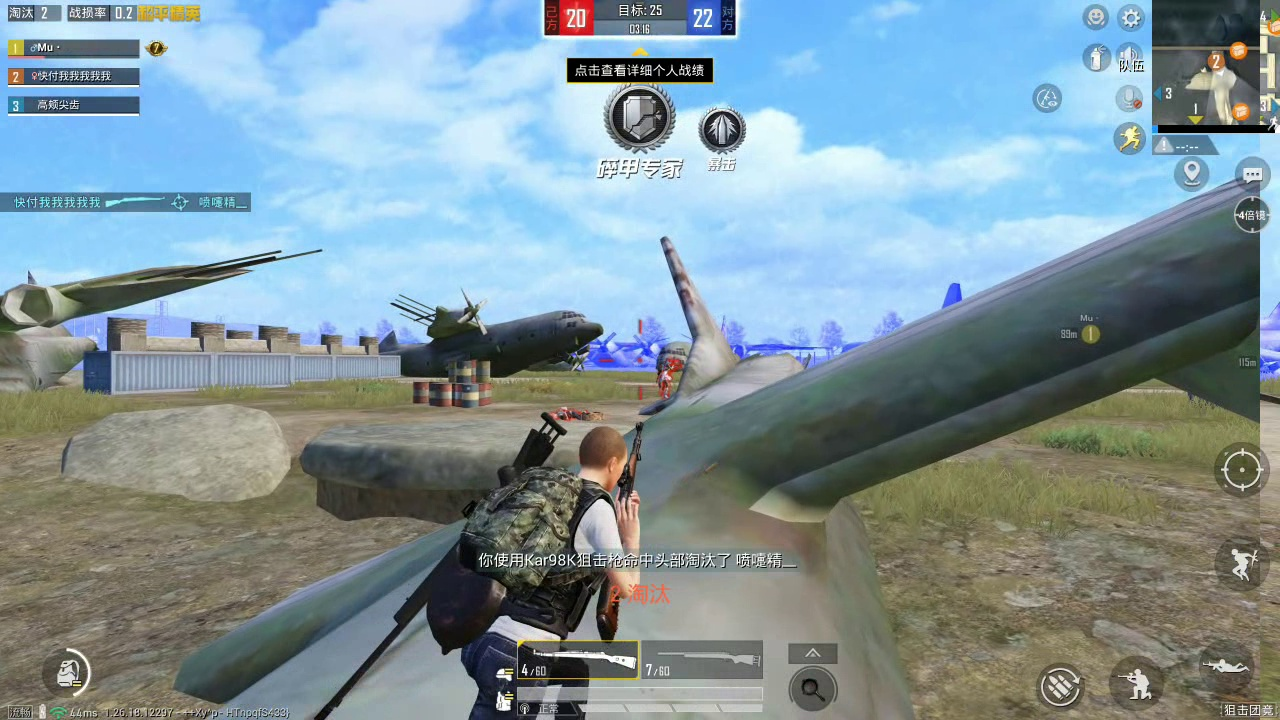enemy: (654, 356, 678, 397)
